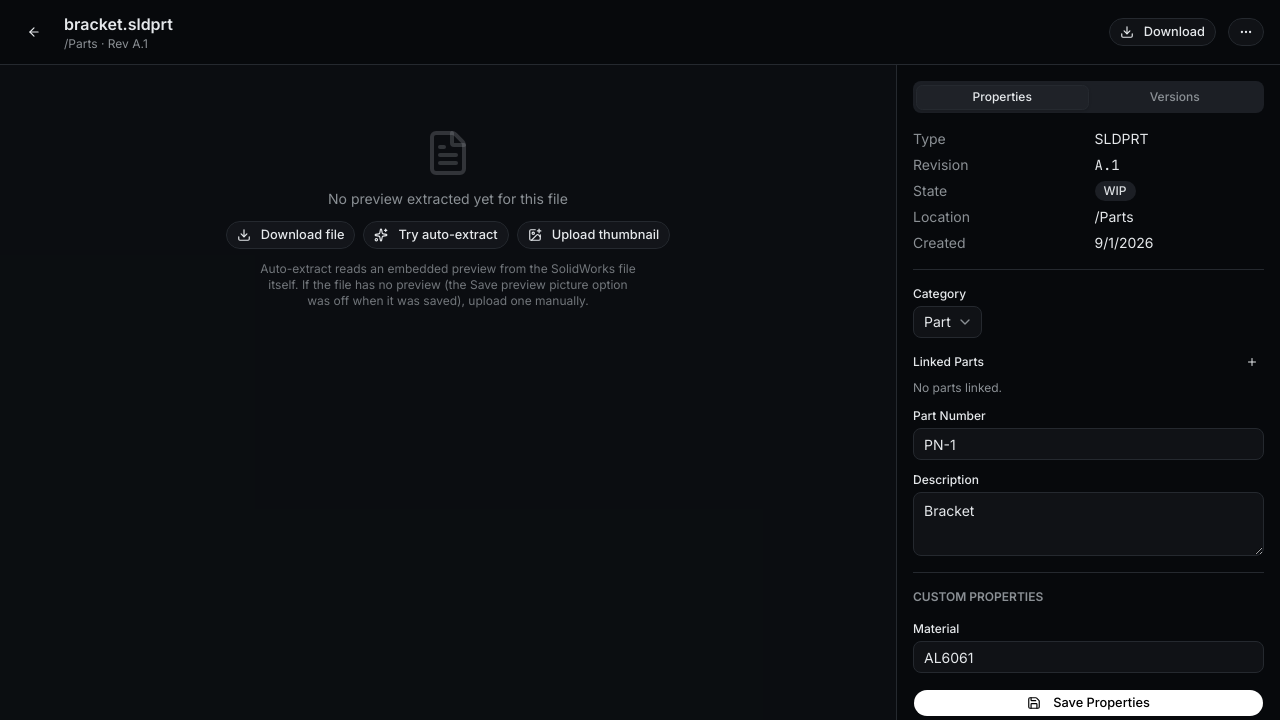
Test: FileDetailPanel — a refresh does not wipe unsaved property edits › keeps the edit through a version change as well
Type "-B" into the field labelled "Part Number". click: point(1088, 444)
box: [913, 428, 1264, 460]
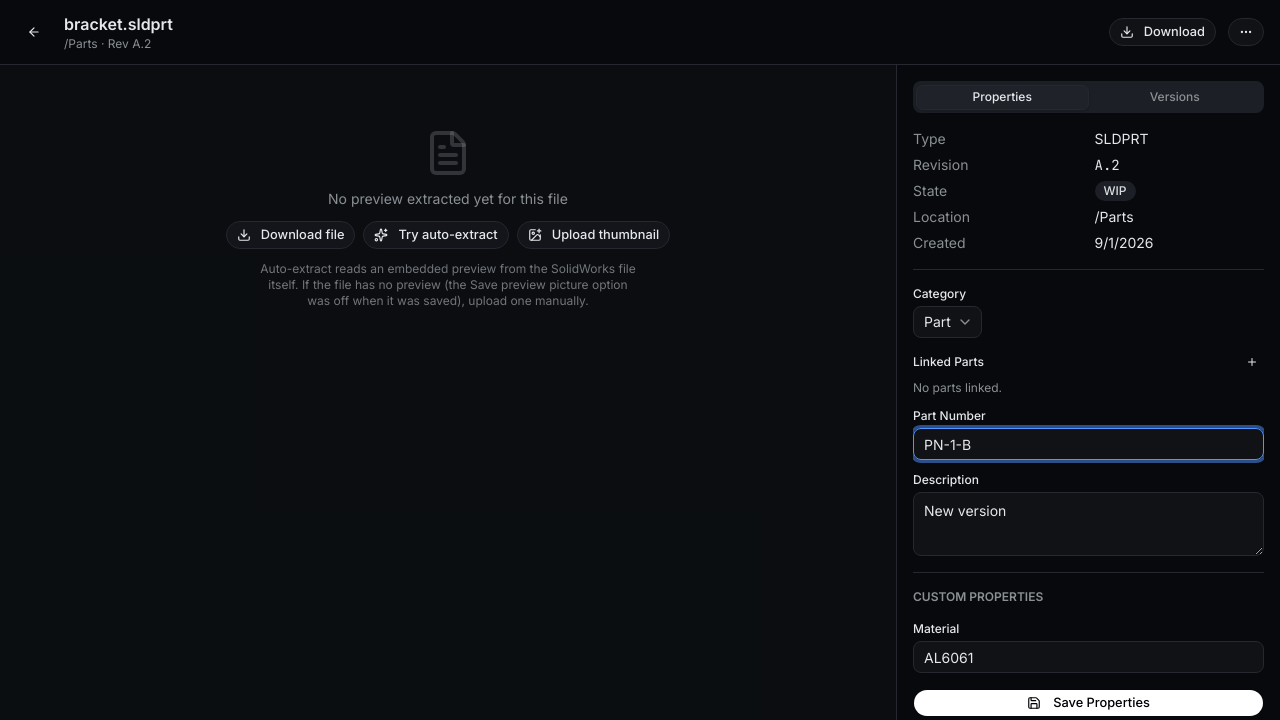
Expected: the text box labelled "Description" holds "New version", [913, 492, 1264, 556]
Expected: the field labelled "Part Number" holds "PN-1-B", [913, 428, 1264, 460]
